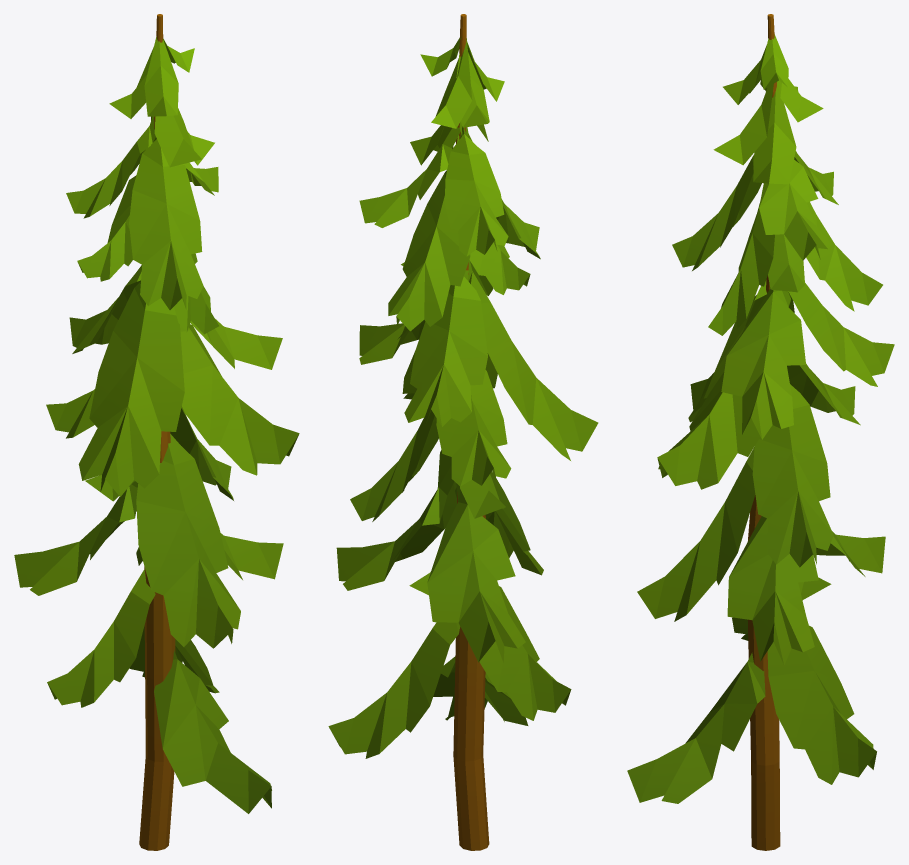
Rendered from Pine model B (3).glb.
3 renders of one model, left to right at view 1: azimuth 30°, elevation 25°; view 2: azimuth 150°, elevation 25°; view 3: azimuth 270°, elevation 25°, orthographic.
Parts seen in each view (by area): view 1: SM_FreeTree_01_Free_Tree_M_0; view 2: SM_FreeTree_01_Free_Tree_M_0; view 3: SM_FreeTree_01_Free_Tree_M_0.
Part boxes in pixels (x1=…): SM_FreeTree_01_Free_Tree_M_0: x1=14, y1=14, x2=299, y2=850; SM_FreeTree_01_Free_Tree_M_0: x1=328, y1=14, x2=598, y2=850; SM_FreeTree_01_Free_Tree_M_0: x1=627, y1=14, x2=894, y2=850.
Size of the model in its own units: 2.03 by 6.81 by 1.98.
1 material, 1 textured.
